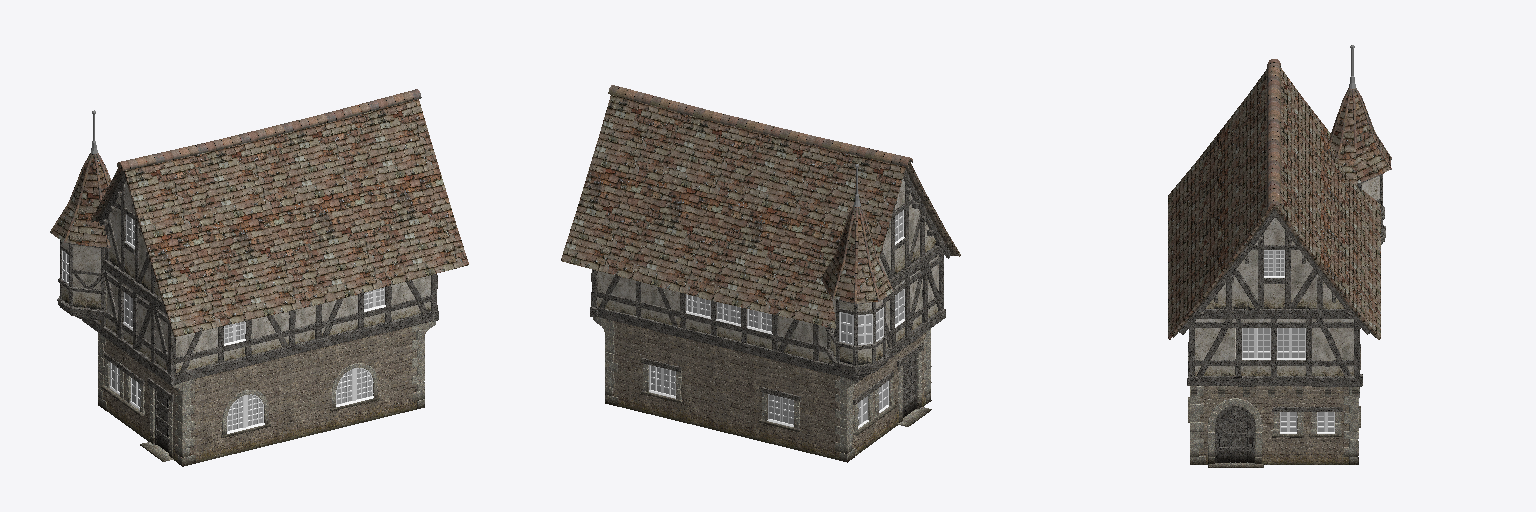
3 renders of one model, left to right at view 1: azimuth 30°, elevation 25°; view 2: azimuth 150°, elevation 25°; view 3: azimuth 270°, elevation 25°, orthographic.
Visible parts, largest first — view 1: LongRoofMiddleTuttet1, LongBase1, LongMiddle1; view 2: LongRoofMiddleTuttet1, LongBase1, LongMiddle1; view 3: LongRoofMiddleTuttet1, LongMiddle1, LongBase1.
Part boxes in pixels (x1,y1,x2,y2): LongRoofMiddleTuttet1: (50, 89, 468, 336); LongBase1: (98, 323, 424, 466); LongMiddle1: (86, 260, 438, 393); LongRoofMiddleTuttet1: (561, 85, 960, 380); LongBase1: (605, 321, 931, 462); LongMiddle1: (590, 245, 945, 388); LongRoofMiddleTuttet1: (1168, 45, 1391, 339); LongMiddle1: (1187, 309, 1362, 396); LongBase1: (1188, 349, 1360, 467).
Bounding box in the file's own units: 247 × 221 × 151.
22 materials, 9 textured.